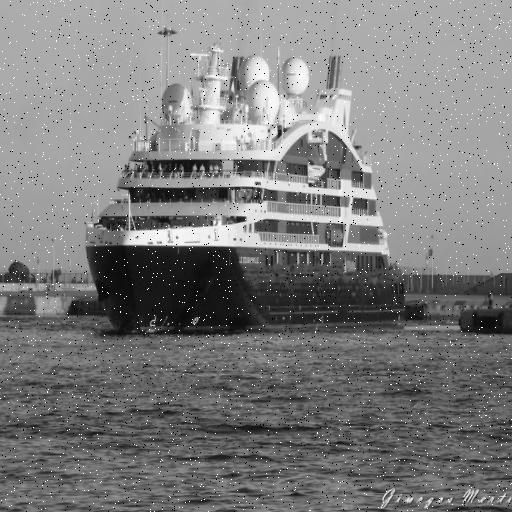cruises: (84, 47, 410, 342)
